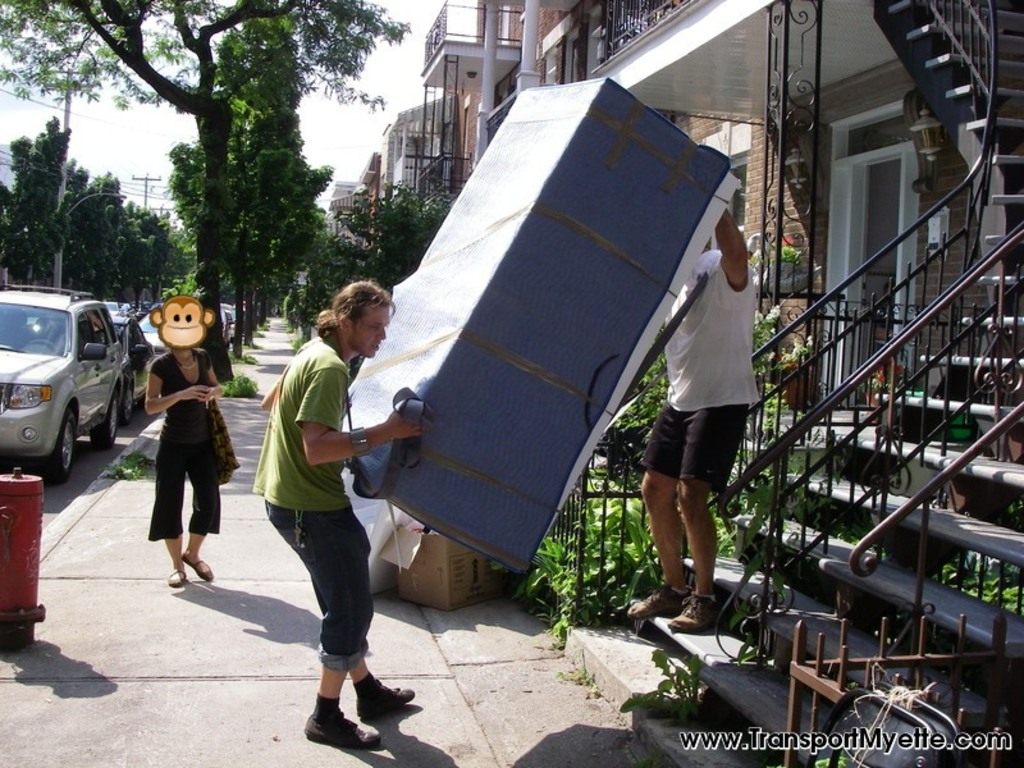Car: (0, 293, 247, 487)
